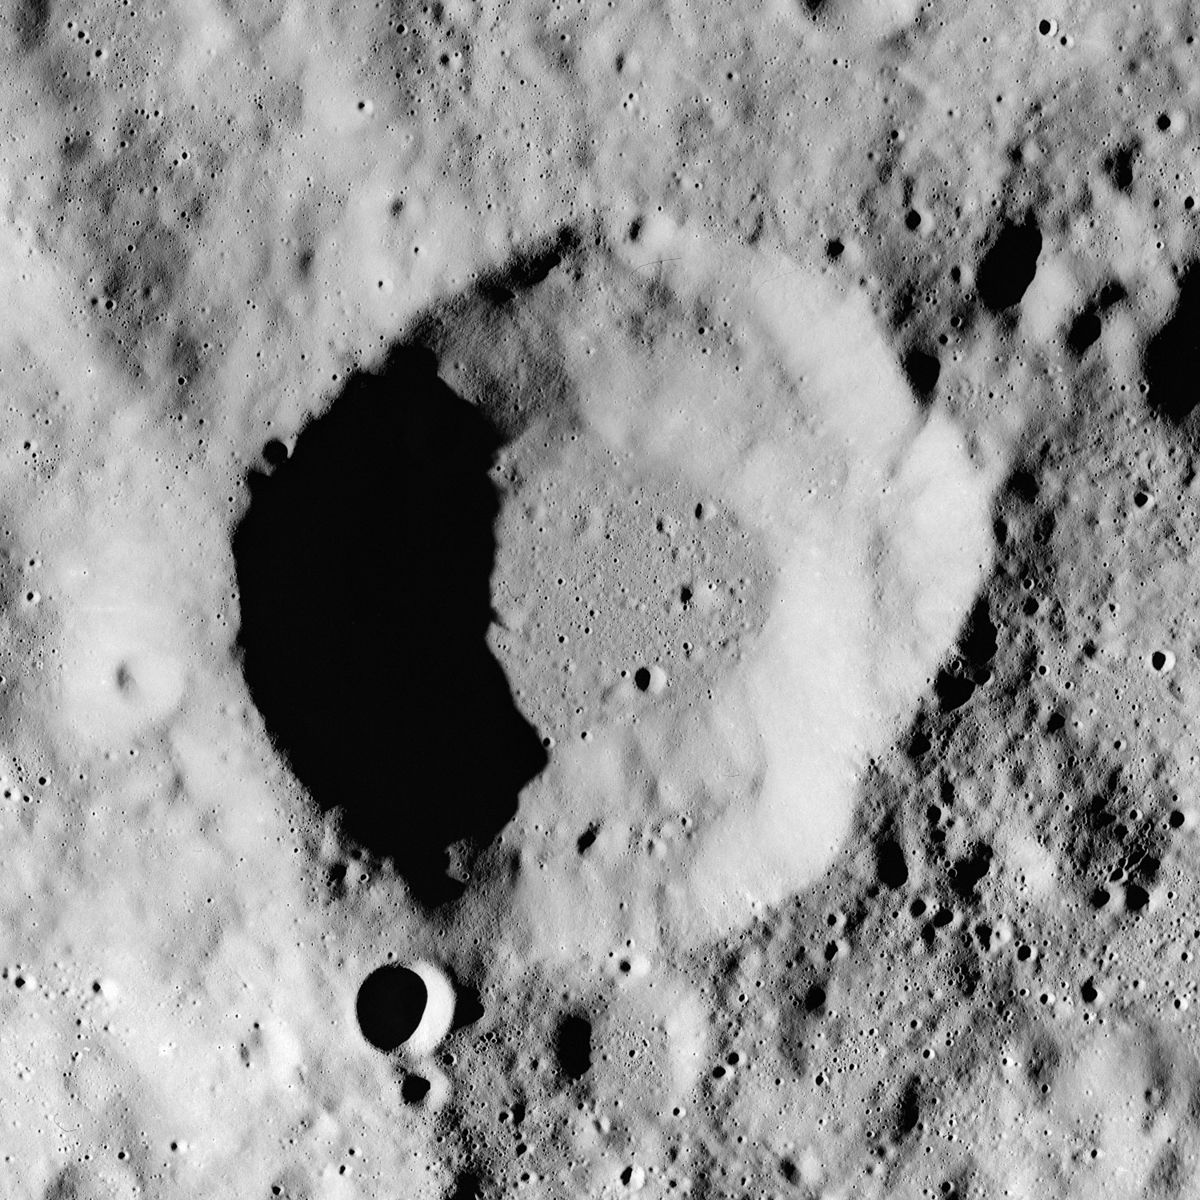crater: (141, 168, 1116, 966), (525, 957, 752, 1158), (265, 936, 480, 1063)
